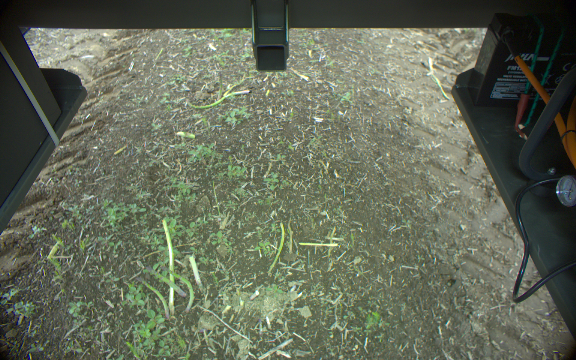aspa: (160, 219, 179, 328), (158, 263, 195, 310), (141, 263, 185, 297), (135, 276, 167, 321), (264, 219, 287, 274), (214, 69, 224, 103)
